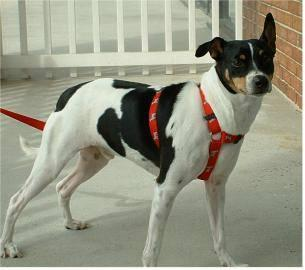dog: (0, 15, 276, 268)
